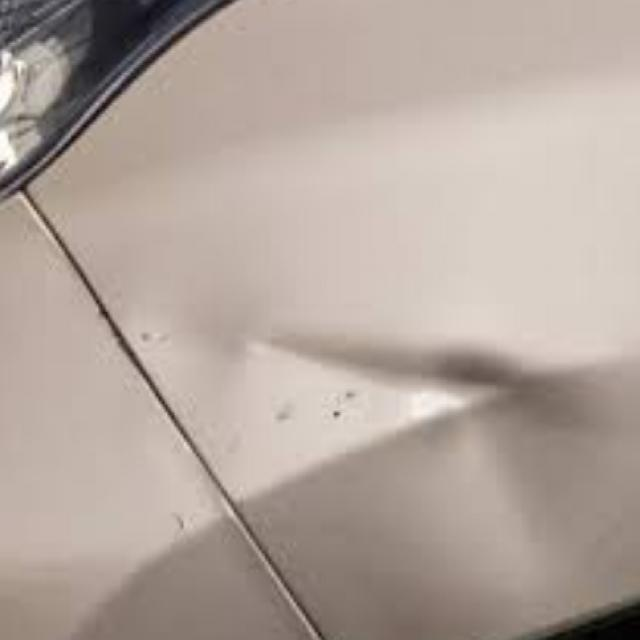dents: (213, 302, 601, 449)
